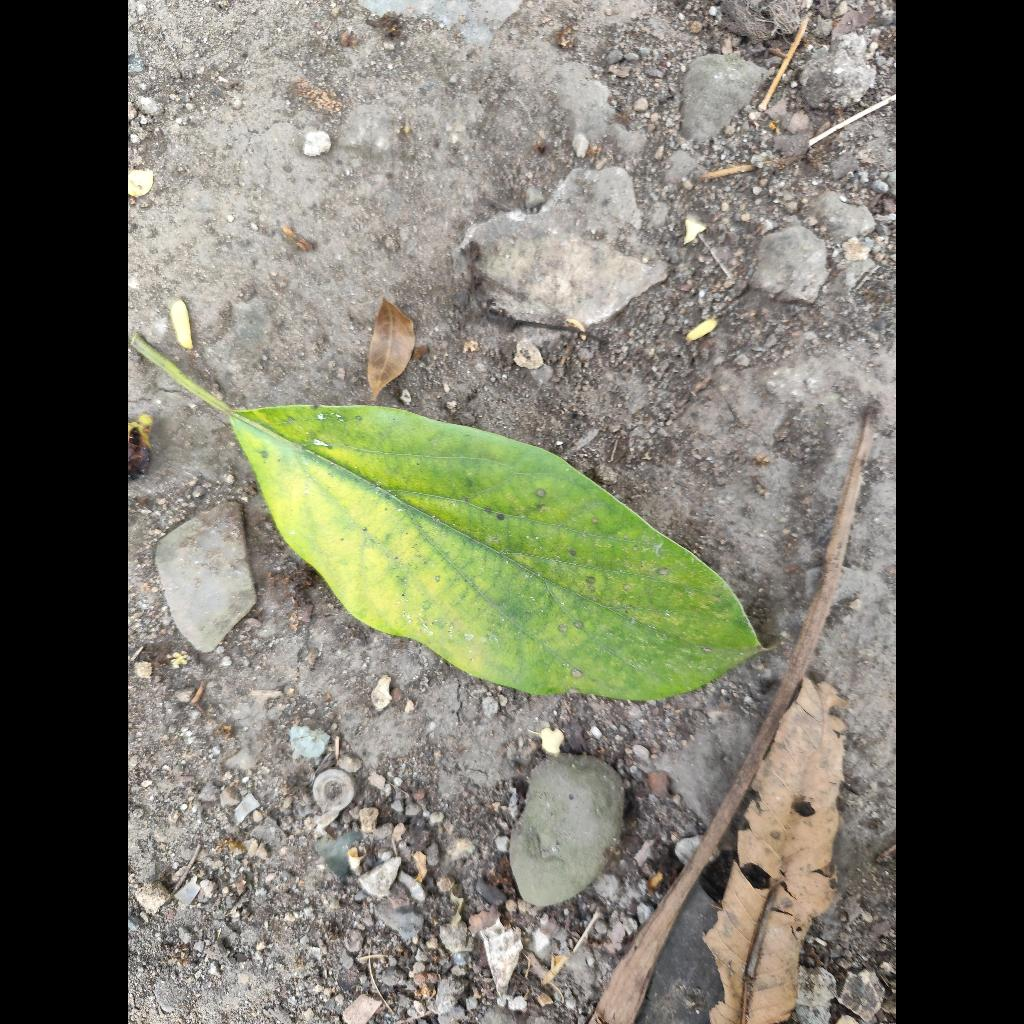deficiencia_nutricional: (132, 336, 761, 698)
